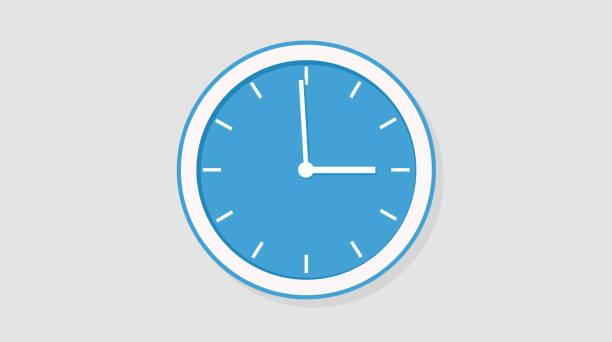clock: (172, 37, 439, 301)
